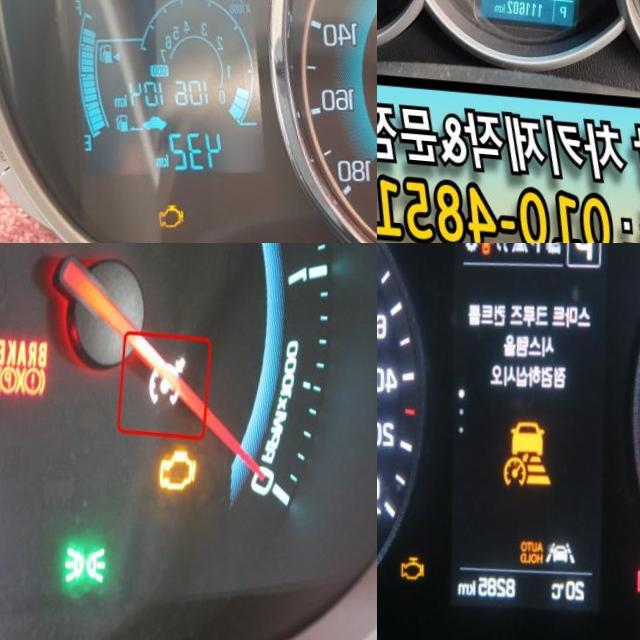Doors: (480, 243, 499, 250)
LaneCenteringOff: (554, 534, 585, 559)
SideLamp: (72, 542, 116, 582)
